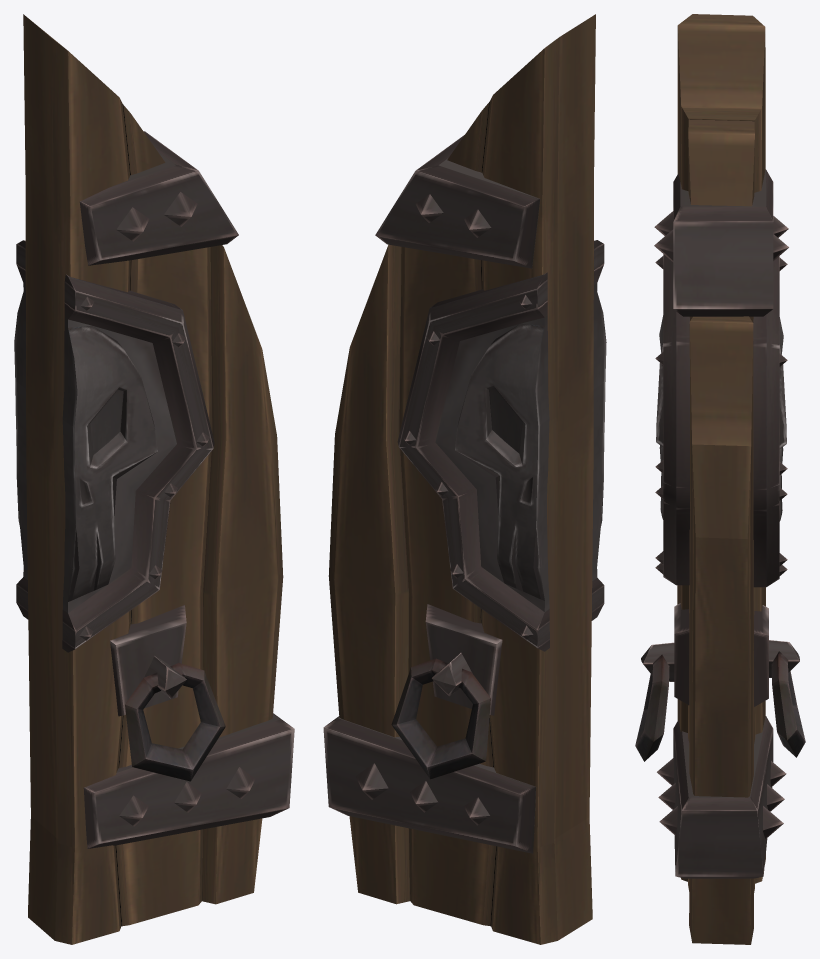
The model's file is A_CR_GEN_DoorLeft_01.fbx.
The picture shows the model from 3 angles, left to right: view 1: azimuth 30°, elevation 25°; view 2: azimuth 150°, elevation 25°; view 3: azimuth 270°, elevation 25°; orthographic projection. The views are drawn at different scales.
Parts seen in each view (by area): view 1: A_CR_GEN_DoorLeft_01; view 2: A_CR_GEN_DoorLeft_01; view 3: A_CR_GEN_DoorLeft_01.
Part boxes in pixels (x1=…): A_CR_GEN_DoorLeft_01: x1=14, y1=14, x2=294, y2=944; A_CR_GEN_DoorLeft_01: x1=323, y1=14, x2=606, y2=944; A_CR_GEN_DoorLeft_01: x1=635, y1=14, x2=805, y2=944.
Bounding box in the file's own units: 178 × 651 × 120.
1 material, 1 textured.
